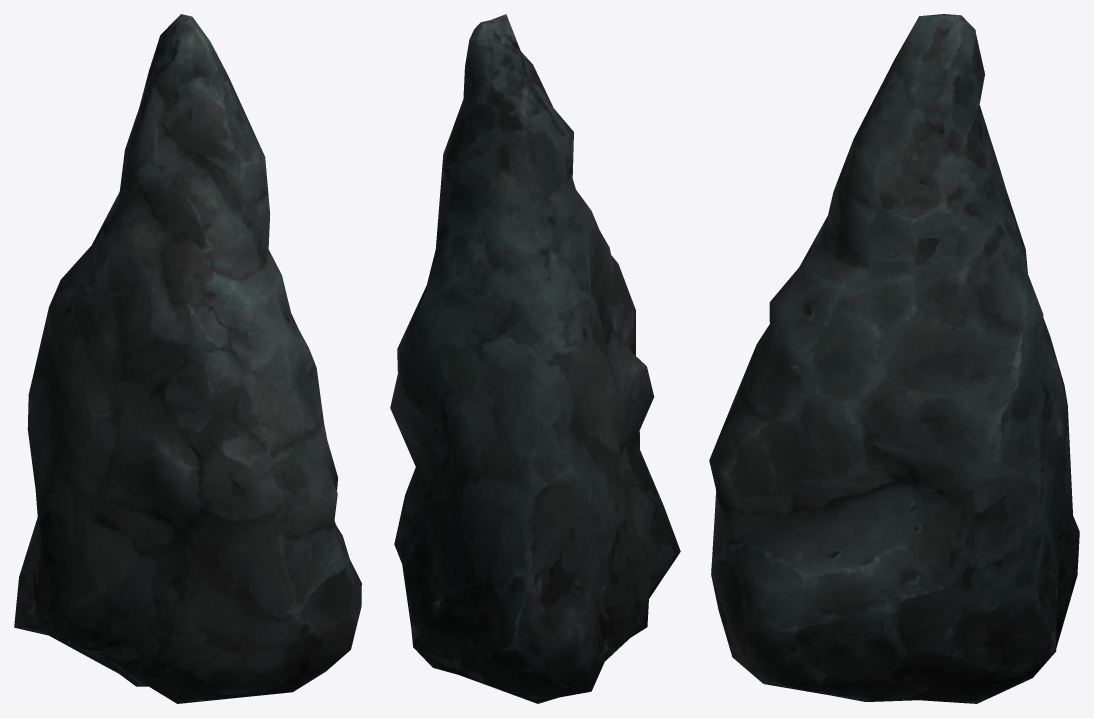
Rendered from bg_lava_rock_cliff_010.fbx.
3 views of the same model, side by side, from view 1: azimuth 30°, elevation 25°; view 2: azimuth 150°, elevation 25°; view 3: azimuth 270°, elevation 25° (orthographic). The views are drawn at different scales.
Visible parts, largest first — view 1: bg_lava_rock_cliff_010; view 2: bg_lava_rock_cliff_010; view 3: bg_lava_rock_cliff_010.
Boxes of the visible parts, x1,y1,x2,y2 form: bg_lava_rock_cliff_010: [14, 14, 361, 703]; bg_lava_rock_cliff_010: [390, 14, 680, 703]; bg_lava_rock_cliff_010: [709, 14, 1079, 703].
Size of the model in its own units: 2.41 by 6.08 by 3.
